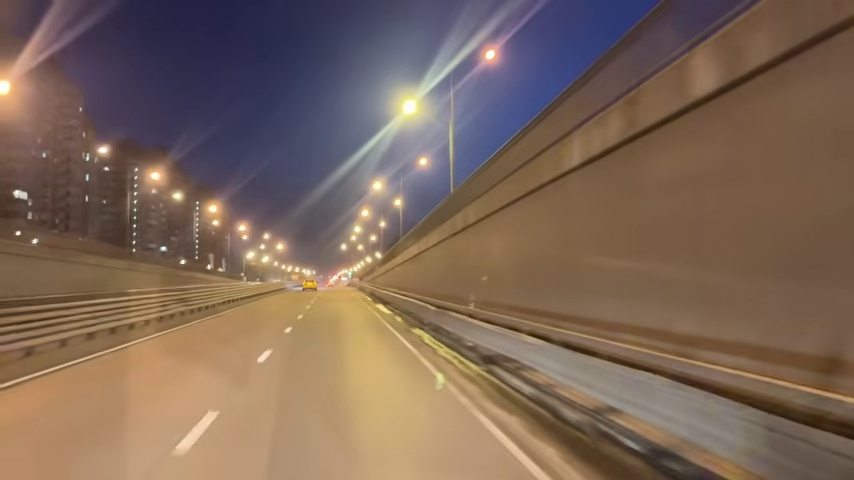acesa: (395, 95, 423, 123), (202, 200, 222, 222), (479, 45, 500, 65), (145, 166, 165, 185), (95, 142, 113, 160), (0, 74, 12, 100), (369, 177, 386, 194), (415, 153, 432, 170), (235, 221, 251, 238), (170, 190, 185, 204), (392, 196, 405, 211)
